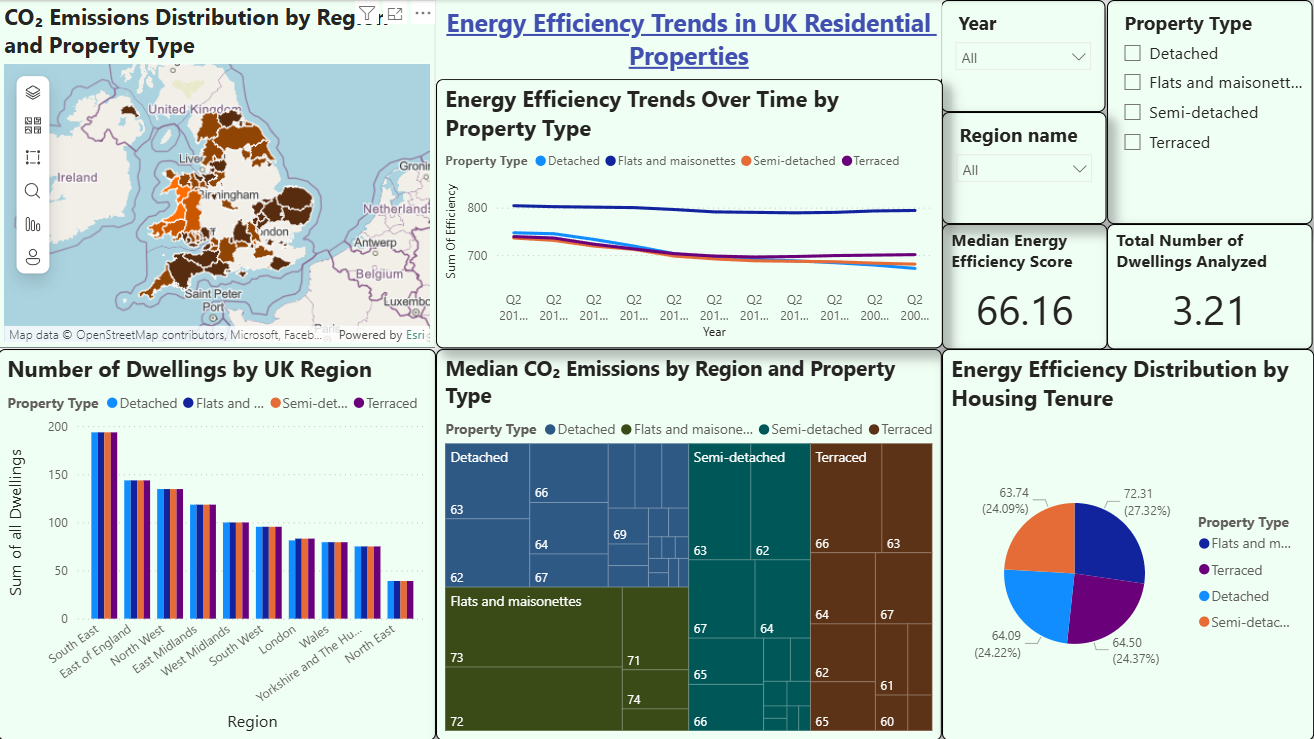

Layout of this report page (visuals, bound fields, positions):
{"tool":"powerbi","page":{"name":"Page 1","canvas":[1280,720],"ordinal":0},"visuals":[{"type":"clusteredColumnChart","title":"Number of Dwellings by UK Region","fields":{"Category":["Co2 Emission.Region name"],"Y":["Sum(Co2 Emission.All dwellings)"],"Series":["Co2 Emission.Property Type"]},"box":[0,339.4,426.3,380.6],"z":0},{"type":"slicer","fields":{"Values":["Efficiency.year"]},"box":[917.2,0,160.5,108.9],"z":1000},{"type":"card","title":"Average Energy Efficiency Score","fields":{"Values":["Avg(Efficiency.Efficiency)"]},"box":[917.9,217.6,161.2,121.8],"z":2000},{"type":"slicer","fields":{"Values":["Co2 Emission.Property Type"]},"box":[1077.7,0,200.4,217.9],"z":3000},{"type":"slicer","fields":{"Values":["Co2 Emission.Region name"]},"box":[918.2,108.9,160.5,108.9],"z":4000},{"type":"treemap","title":"Median CO₂ Emissions by Region and Property Type","fields":{"Group":["Efficiency.Property Type"],"Values":["CountNonNull(Efficiency.Region)"],"Details":["Efficiency.Efficiency"]},"box":[426.3,339.4,491.6,380.6],"z":5000},{"type":"card","title":"Total Number of Dwellings Analyzed","fields":{"Values":["Avg(Co2 Emission.All dwellings)"]},"box":[1079.1,217.6,199.7,121.8],"z":6000},{"type":"lineChart","title":"Energy Efficiency Trends Over Time by Property Type","fields":{"Category":["Efficiency.Year"],"Y":["Sum(Efficiency.Efficiency)"],"Series":["Co2 Emission.Property Type"]},"box":[426.3,77,492.5,262.4],"z":7000},{"type":"pieChart","title":"Energy Efficiency Distribution by Housing Tenure","fields":{"Category":["Efficiency.Property Type"],"Y":["Avg(Efficiency.Efficiency)"]},"box":[917.9,339.4,361.8,380.6],"z":8000},{"type":"textbox","box":[426.3,0,491.6,77],"z":10000},{"type":"esriVisual","title":"CO₂ Emissions Distribution by Region and Property Type","fields":{"Color":["Sum(Co2 Emission.Co2 Emission)"],"Size":["Count(Co2 Emission.Property Type)"],"Location":["Co2 Emission.locationfullname"]},"box":[0,0,426,339.5],"z":11000}]}

Visuals, with their boxes in screenshot pixels (x1, y1, x2, y2), scaled from the page's 1280x720 canvas onto the 1314x739 screenshot:
"Number of Dwellings by UK Region" clusteredColumnChart: box=[0, 348, 438, 738]
slicer - Efficiency.year: box=[942, 0, 1106, 112]
"Average Energy Efficiency Score" card: box=[942, 223, 1108, 348]
slicer - Co2 Emission.Property Type: box=[1106, 0, 1312, 224]
slicer - Co2 Emission.Region name: box=[943, 112, 1107, 224]
"Median CO₂ Emissions by Region and Property Type" treemap: box=[438, 348, 942, 738]
"Total Number of Dwellings Analyzed" card: box=[1108, 223, 1313, 348]
"Energy Efficiency Trends Over Time by Property Type" lineChart: box=[438, 79, 943, 348]
"Energy Efficiency Distribution by Housing Tenure" pieChart: box=[942, 348, 1313, 738]
textbox: box=[438, 0, 942, 79]
"CO₂ Emissions Distribution by Region and Property Type" esriVisual: box=[0, 0, 437, 348]
